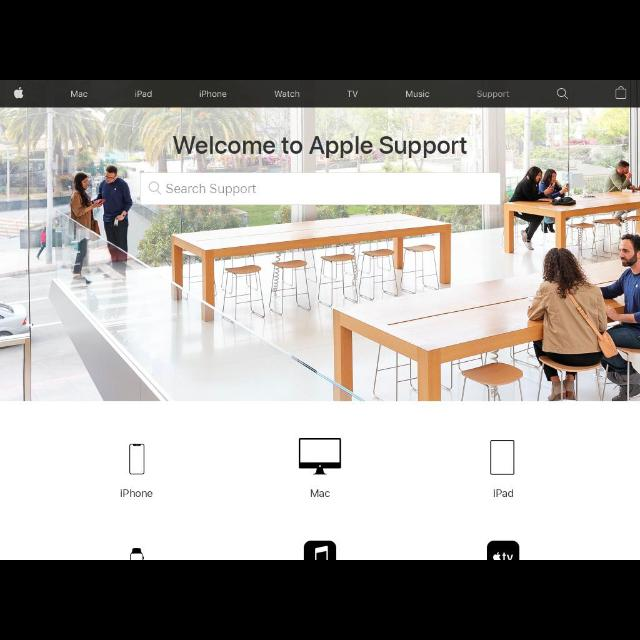backgroundimage: (1, 107, 640, 400)
icon: (148, 181, 162, 195), (556, 88, 568, 100), (616, 86, 626, 100)
image: (298, 437, 342, 477), (490, 439, 514, 476), (303, 540, 337, 560), (128, 443, 146, 475), (488, 541, 520, 559), (128, 546, 144, 560), (14, 87, 24, 99)
input: (140, 173, 500, 205), (476, 88, 568, 100)
multitab: (70, 90, 430, 98)
text: (172, 135, 468, 159), (165, 183, 257, 197), (120, 489, 154, 499), (492, 487, 516, 499), (476, 90, 509, 98), (308, 488, 332, 498), (200, 90, 227, 98), (274, 90, 300, 98), (406, 90, 430, 98), (134, 90, 152, 98), (72, 90, 88, 98), (346, 90, 358, 98)
toolbar: (0, 82, 638, 106)
